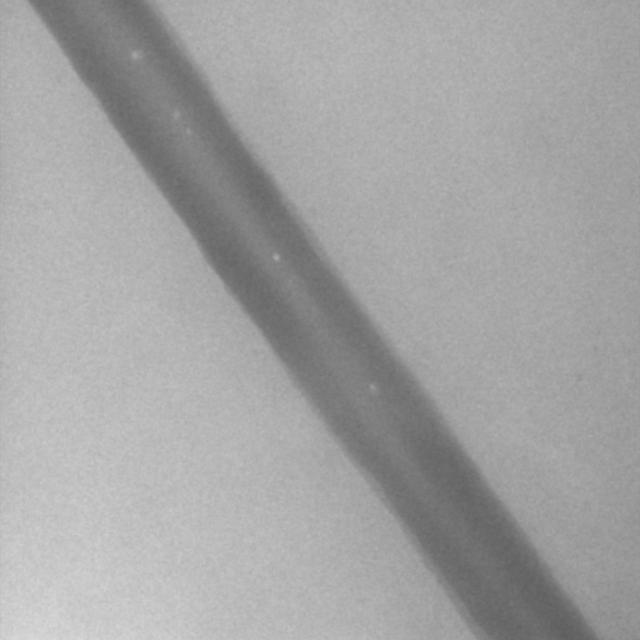air hole: (128, 45, 141, 61), (270, 249, 281, 262), (368, 380, 377, 392)
